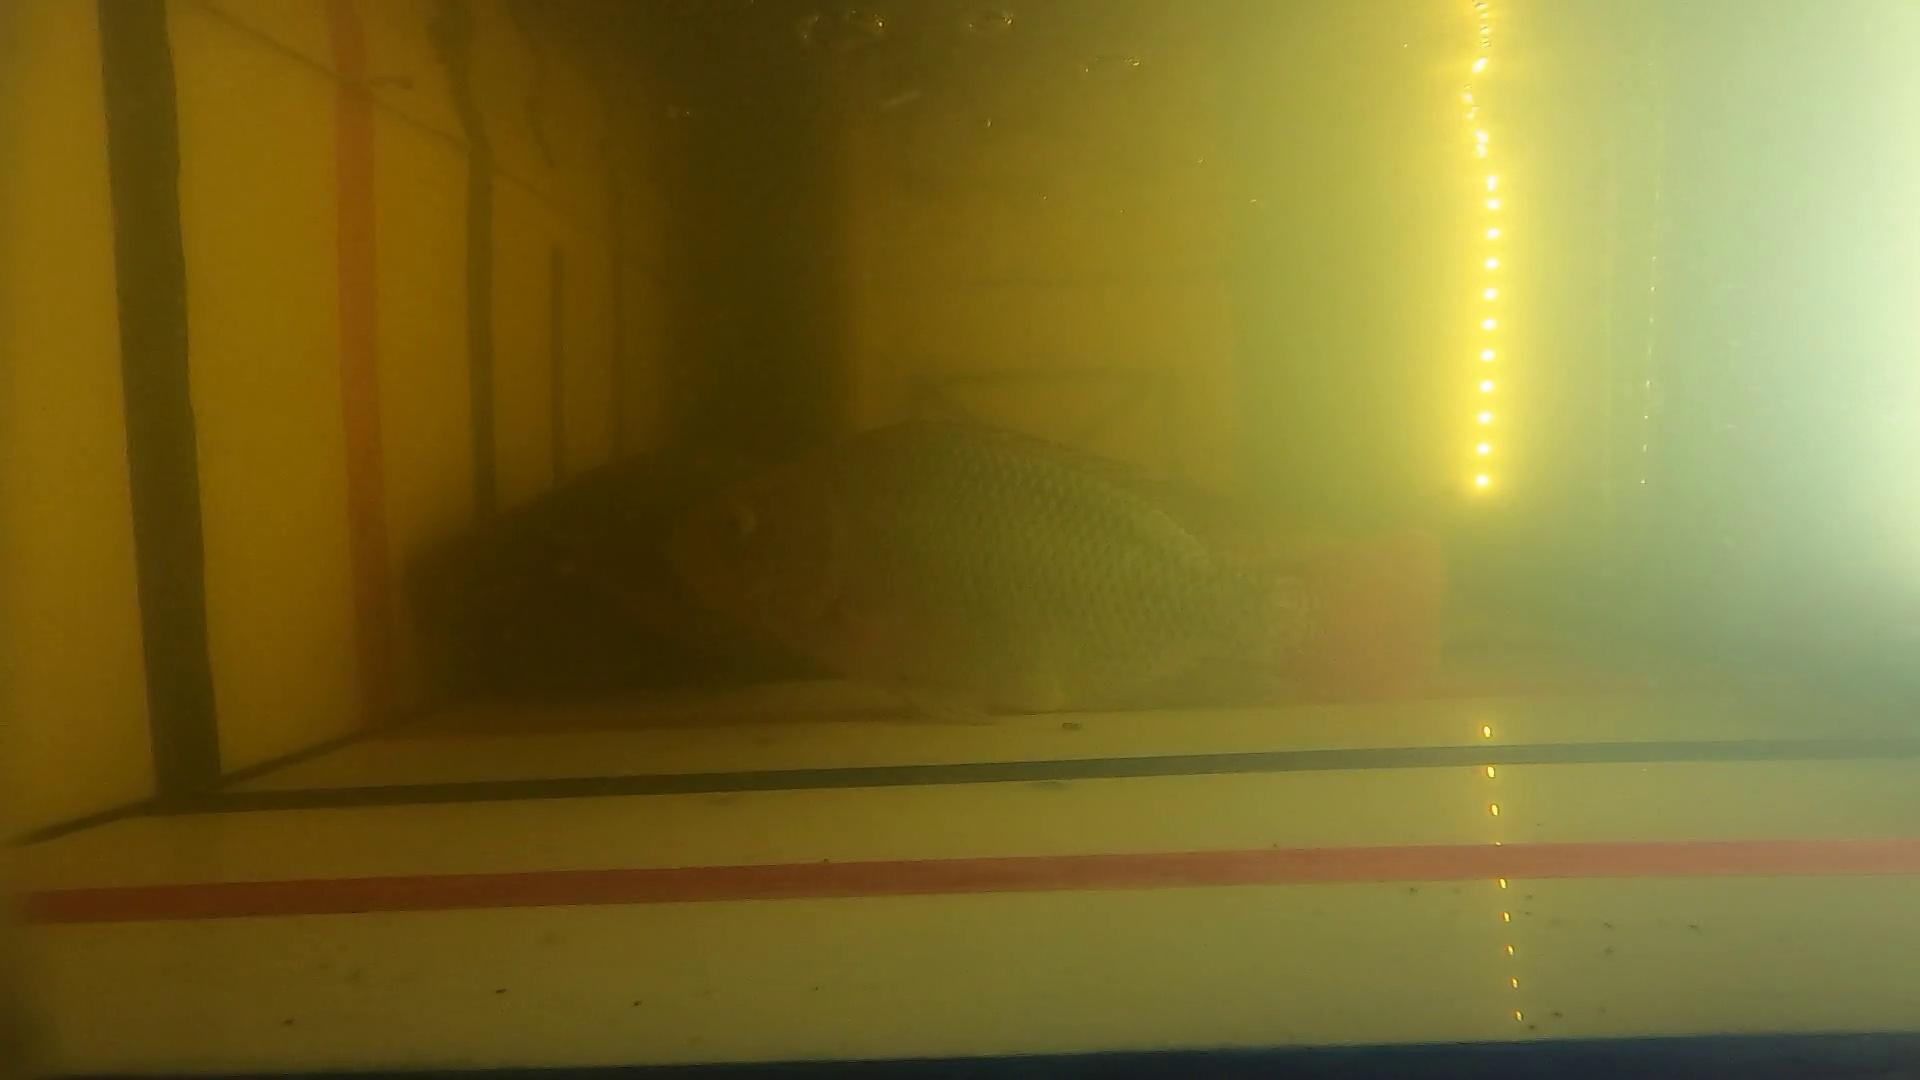Tilapia: (661, 419, 1470, 711)
